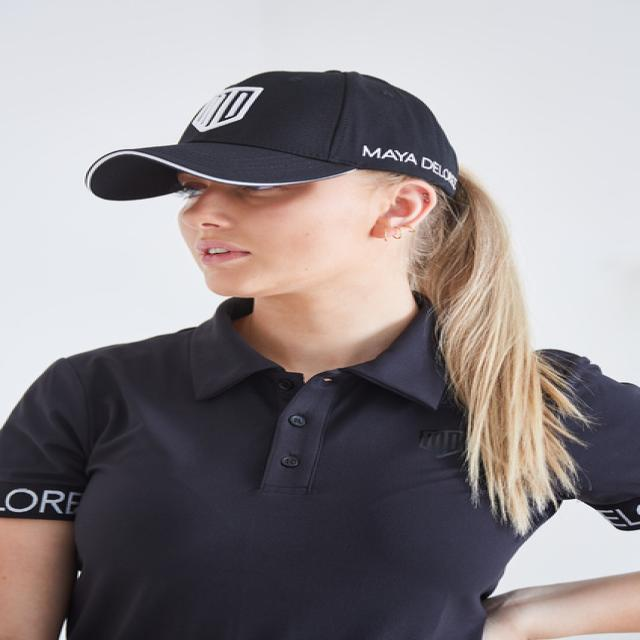Cap: (74, 64, 466, 205)
